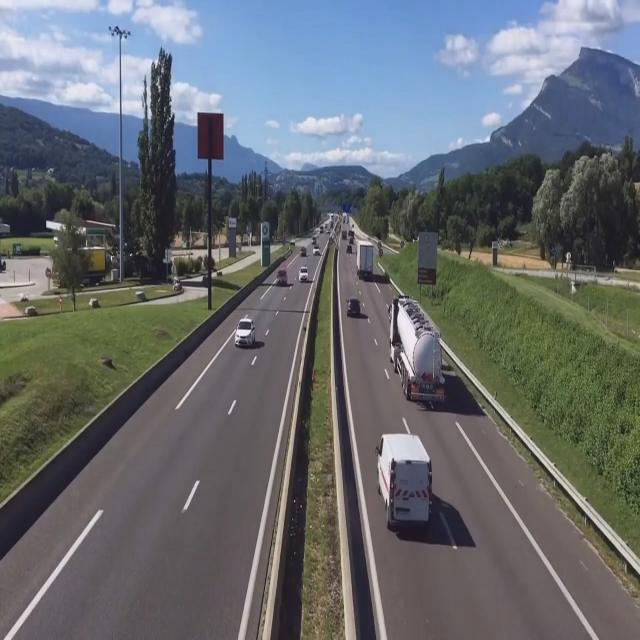bus: (380, 430, 439, 534)
car: (235, 316, 258, 350), (346, 295, 361, 317)
truck: (386, 294, 446, 404), (356, 239, 374, 281)
